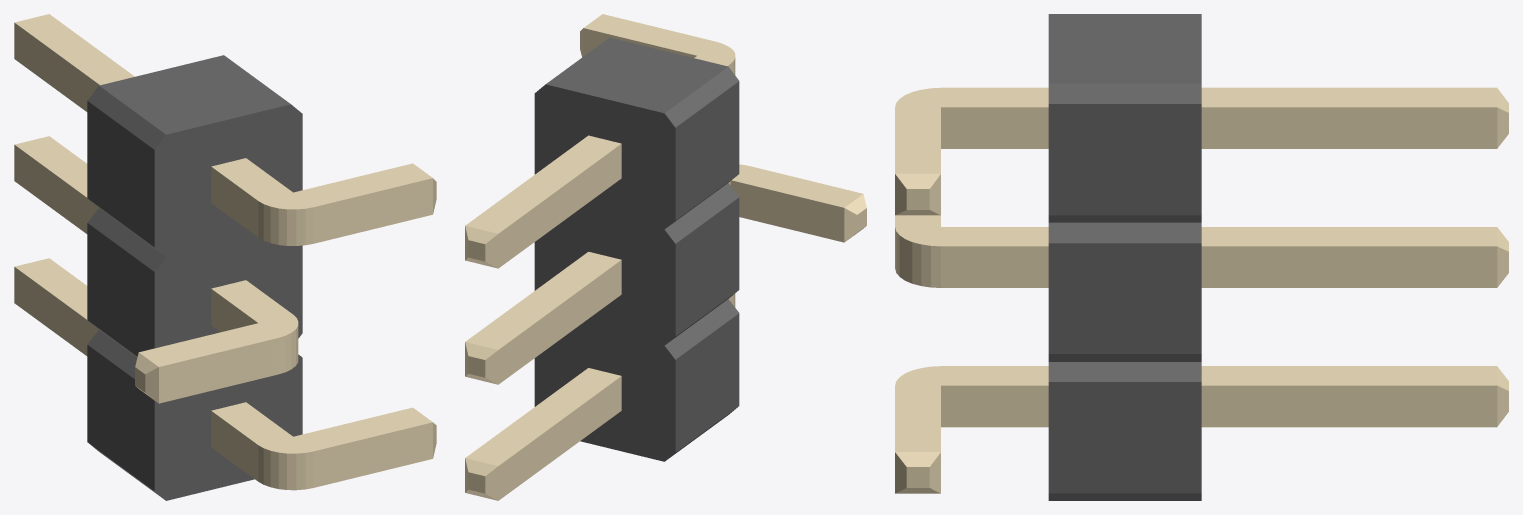
Rendered from PinHeader_1x03_P1.00mm_Vertical_SMD_Pin1Left.glb.
3 renders of one model, left to right at view 1: azimuth 30°, elevation 25°; view 2: azimuth 150°, elevation 25°; view 3: azimuth 270°, elevation 25°, orthographic. The views are drawn at different scales.
Parts seen in each view (by area): view 1: Shape_IndexedFaceSet.003, Shape_IndexedFaceSet.001, Shape_IndexedFaceSet.007, Shape_IndexedFaceSet.019, Shape_IndexedFaceSet.013, Shape_IndexedFaceSet.025, Shape_IndexedFaceSet.030, Shape_IndexedFaceSet.029, Shape_IndexedFaceSet.049, Shape_IndexedFaceSet.059, Shape_IndexedFaceSet.054, Shape_IndexedFaceSet.042 (+14 smaller); view 2: Shape_IndexedFaceSet.004, Shape_IndexedFaceSet.001, Shape_IndexedFaceSet.019, Shape_IndexedFaceSet.007, Shape_IndexedFaceSet.013, Shape_IndexedFaceSet.036, Shape_IndexedFaceSet.045, Shape_IndexedFaceSet.040, Shape_IndexedFaceSet.041, Shape_IndexedFaceSet.042, Shape_IndexedFaceSet.037, Shape_IndexedFaceSet.053 (+6 smaller); view 3: Shape_IndexedFaceSet.002, Shape_IndexedFaceSet.016, Shape_IndexedFaceSet.010, Shape_IndexedFaceSet.034, Shape_IndexedFaceSet.038, Shape_IndexedFaceSet.043, Shape_IndexedFaceSet.001, Shape_IndexedFaceSet.042, Shape_IndexedFaceSet.030, Shape_IndexedFaceSet.037, Shape_IndexedFaceSet.041, Shape_IndexedFaceSet.025 (+11 smaller).
Part boxes in pixels (x1,y1,x2,y2): Shape_IndexedFaceSet.003: (154, 104, 302, 500); Shape_IndexedFaceSet.001: (99, 55, 290, 134); Shape_IndexedFaceSet.007: (87, 101, 154, 247); Shape_IndexedFaceSet.019: (87, 345, 154, 490); Shape_IndexedFaceSet.013: (87, 223, 154, 356); Shape_IndexedFaceSet.025: (211, 402, 432, 453); Shape_IndexedFaceSet.030: (211, 158, 432, 209); Shape_IndexedFaceSet.029: (139, 280, 298, 366); Shape_IndexedFaceSet.049: (313, 422, 432, 487); Shape_IndexedFaceSet.059: (313, 178, 432, 243); Shape_IndexedFaceSet.054: (159, 338, 278, 403); Shape_IndexedFaceSet.042: (15, 14, 134, 85); Shape_IndexedFaceSet.004: (534, 84, 675, 461); Shape_IndexedFaceSet.001: (546, 37, 727, 113); Shape_IndexedFaceSet.019: (675, 313, 739, 452); Shape_IndexedFaceSet.007: (675, 81, 739, 219); Shape_IndexedFaceSet.013: (675, 197, 739, 335); Shape_IndexedFaceSet.036: (498, 376, 621, 500); Shape_IndexedFaceSet.045: (498, 144, 621, 268); Shape_IndexedFaceSet.040: (498, 260, 621, 384); Shape_IndexedFaceSet.041: (465, 251, 621, 349); Shape_IndexedFaceSet.042: (465, 135, 621, 233); Shape_IndexedFaceSet.037: (465, 368, 620, 465); Shape_IndexedFaceSet.053: (730, 180, 844, 242); Shape_IndexedFaceSet.002: (1048, 104, 1201, 215); Shape_IndexedFaceSet.016: (1048, 382, 1201, 493); Shape_IndexedFaceSet.010: (1048, 243, 1201, 353); Shape_IndexedFaceSet.034: (1201, 385, 1497, 427); Shape_IndexedFaceSet.038: (1201, 246, 1497, 287); Shape_IndexedFaceSet.043: (1201, 107, 1497, 148); Shape_IndexedFaceSet.001: (1048, 14, 1201, 83); Shape_IndexedFaceSet.042: (1201, 87, 1497, 107); Shape_IndexedFaceSet.030: (895, 87, 1048, 173); Shape_IndexedFaceSet.037: (1201, 366, 1497, 385); Shape_IndexedFaceSet.041: (1201, 227, 1497, 246); Shape_IndexedFaceSet.025: (895, 366, 1048, 451).
Size of the model in its own units: 0.984 by 1.18 by 1.58.
